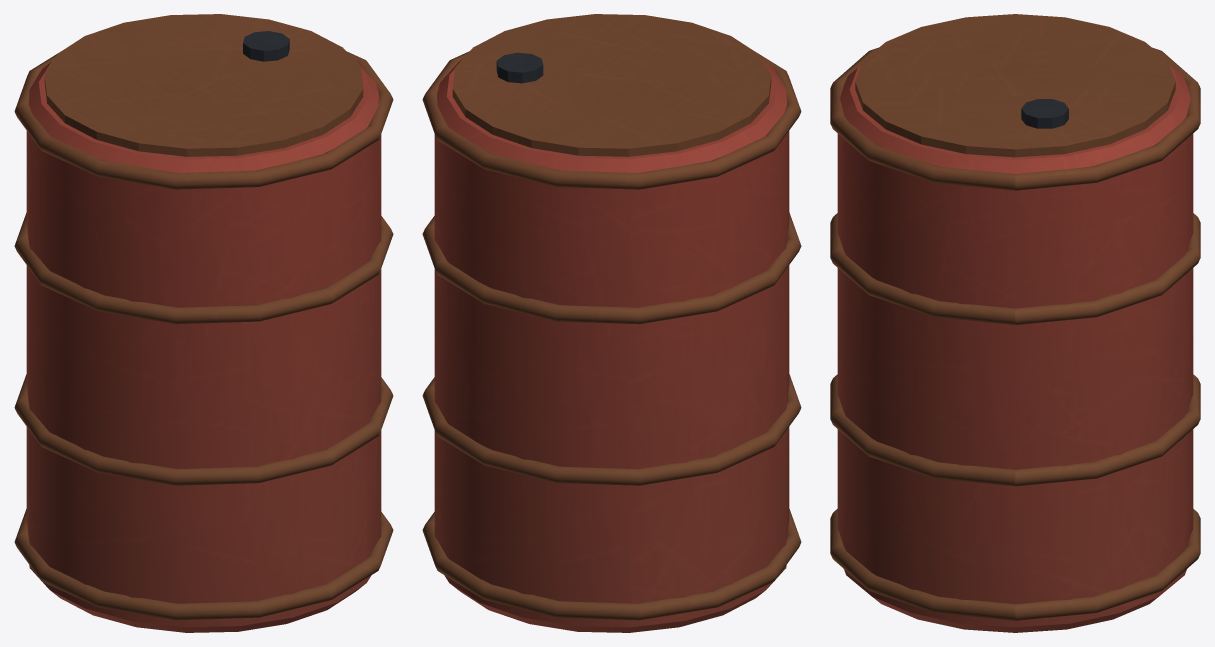
The model's file is barrel_rusty.glb.
The picture shows the model from 3 angles, left to right: view 1: azimuth 30°, elevation 25°; view 2: azimuth 150°, elevation 25°; view 3: azimuth 270°, elevation 25°; orthographic projection.
Parts seen in each view (by area): view 1: barrel_rusty; view 2: barrel_rusty; view 3: barrel_rusty.
Boxes of the visible parts, <box> form: barrel_rusty: <box>14,14,393,632</box>; barrel_rusty: <box>422,14,801,632</box>; barrel_rusty: <box>830,14,1200,632</box>.
Bounding box in the file's own units: 0.64 × 0.915 × 0.624.
Materials: 4 (4 with a texture image).
